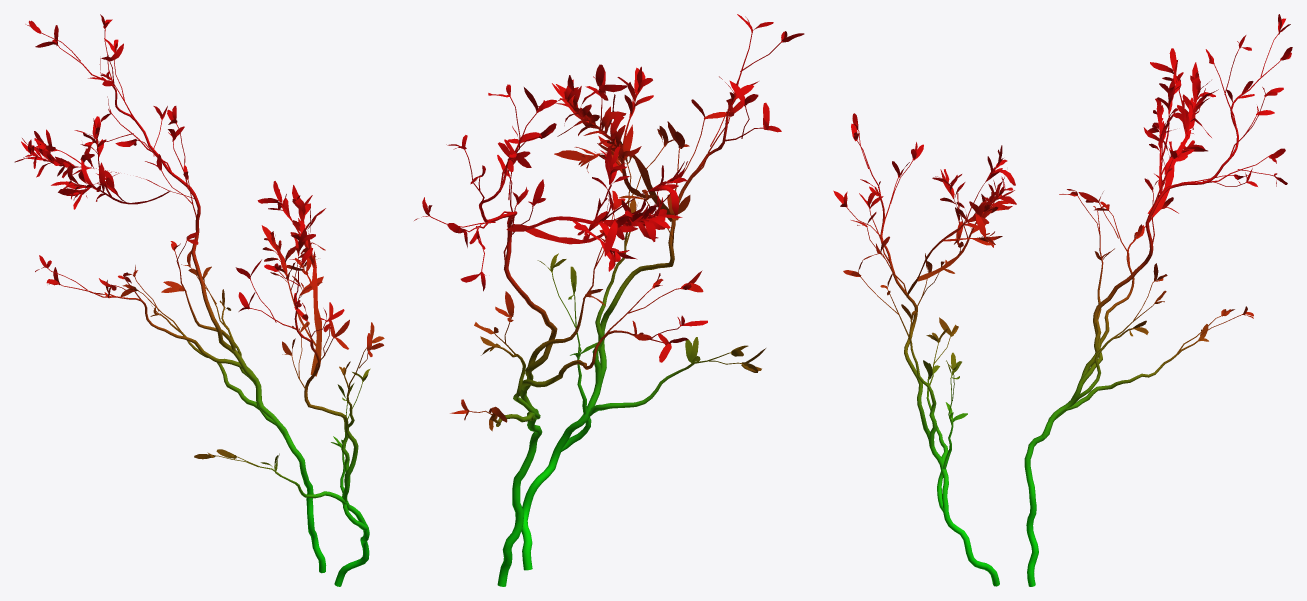
The model's file is Downy Willow_LOD2_Var16_wknlfiuqx.fbx.
3 renders of one model, left to right at view 1: azimuth 30°, elevation 25°; view 2: azimuth 150°, elevation 25°; view 3: azimuth 270°, elevation 25°, orthographic. The views are drawn at different scales.
Parts seen in each view (by area): view 1: _31am_Var16_LOD2; view 2: _31am_Var16_LOD2; view 3: _31am_Var16_LOD2.
Part boxes in pixels (x1,y1,x2,y2): _31am_Var16_LOD2: (14,14,384,586); _31am_Var16_LOD2: (414,14,804,586); _31am_Var16_LOD2: (833,14,1292,586).
Size of the model in its own units: 76.17 by 153 by 128.
